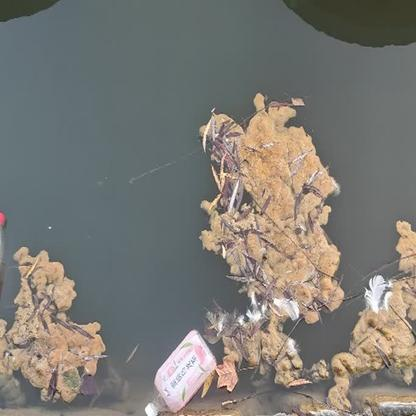plastic bottle: (144, 327, 217, 416)
